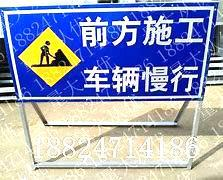sign: (2, 10, 208, 101)
